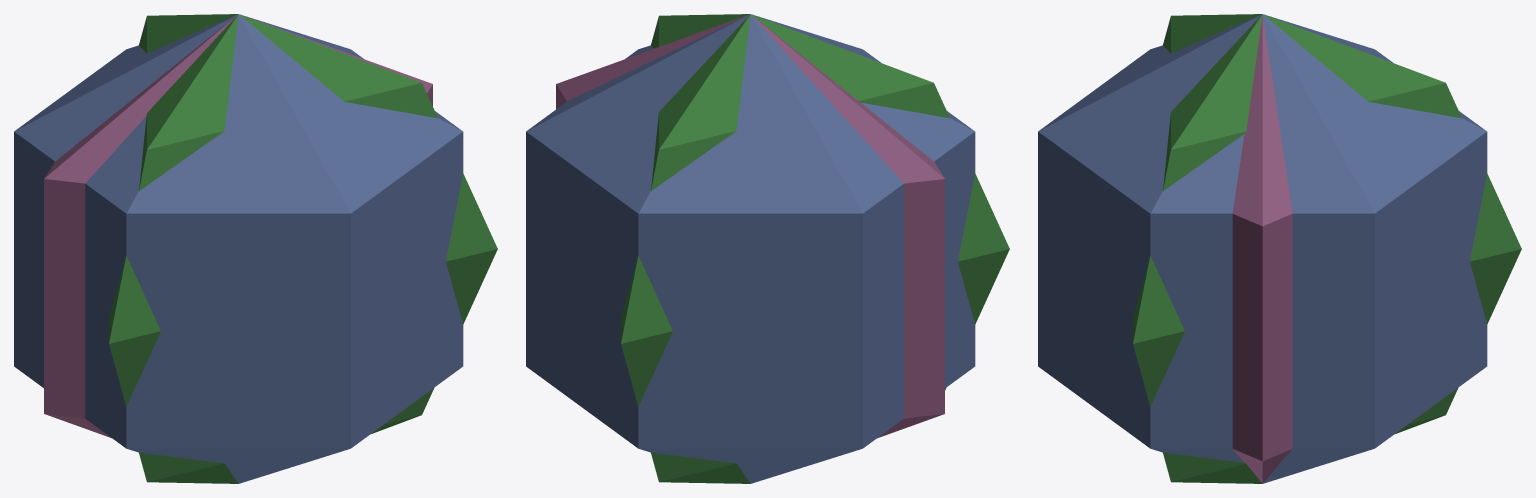
Rendered from modelo_jXJrKiK.glb.
3 views of the same model, side by side, from view 1: azimuth 30°, elevation 25°; view 2: azimuth 150°, elevation 25°; view 3: azimuth 270°, elevation 25° (orthographic).
Visible parts, largest first — view 1: Sphere.001, Sphere, Sphere.006; view 2: Sphere.001, Sphere, Sphere.006; view 3: Sphere.001, Sphere, Sphere.006.
Part boxes in pixels (<box>): Sphere.001: <box>14,14,463,483</box>; Sphere: <box>109,14,497,483</box>; Sphere.006: <box>44,15,432,438</box>; Sphere.001: <box>526,14,975,483</box>; Sphere: <box>621,14,1009,483</box>; Sphere.006: <box>556,14,944,438</box>; Sphere.001: <box>1038,14,1487,483</box>; Sphere: <box>1133,14,1521,483</box>; Sphere.006: <box>1232,15,1292,483</box>.
Size of the model in its own units: 1.73 by 2 by 1.87.
